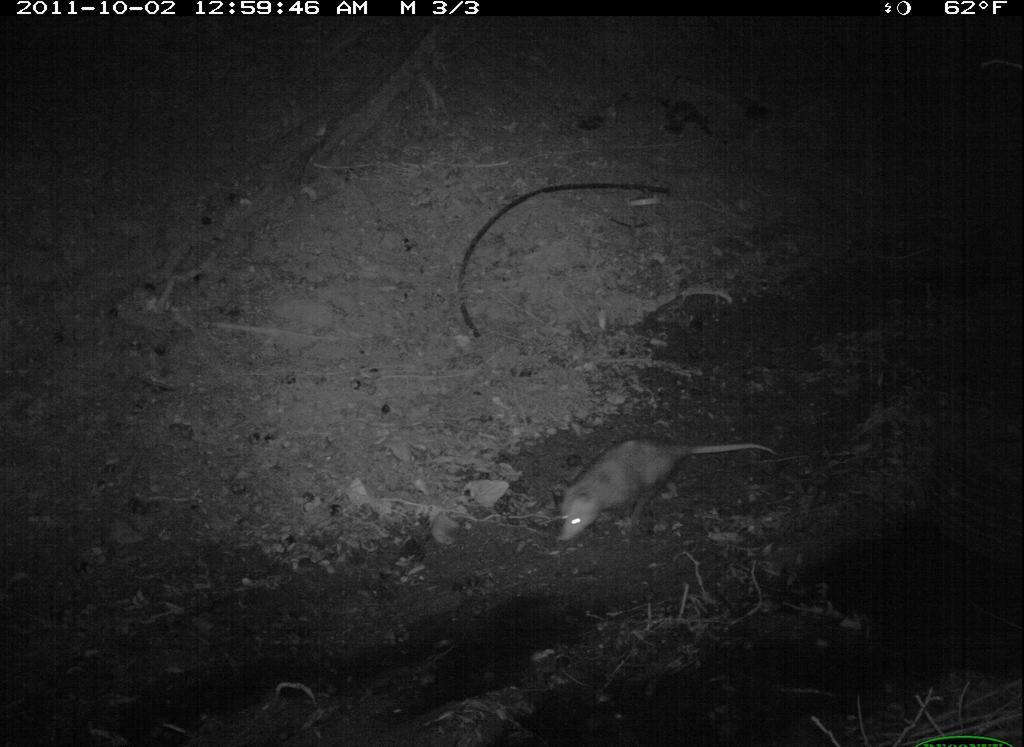opossum: (548, 431, 781, 546)
